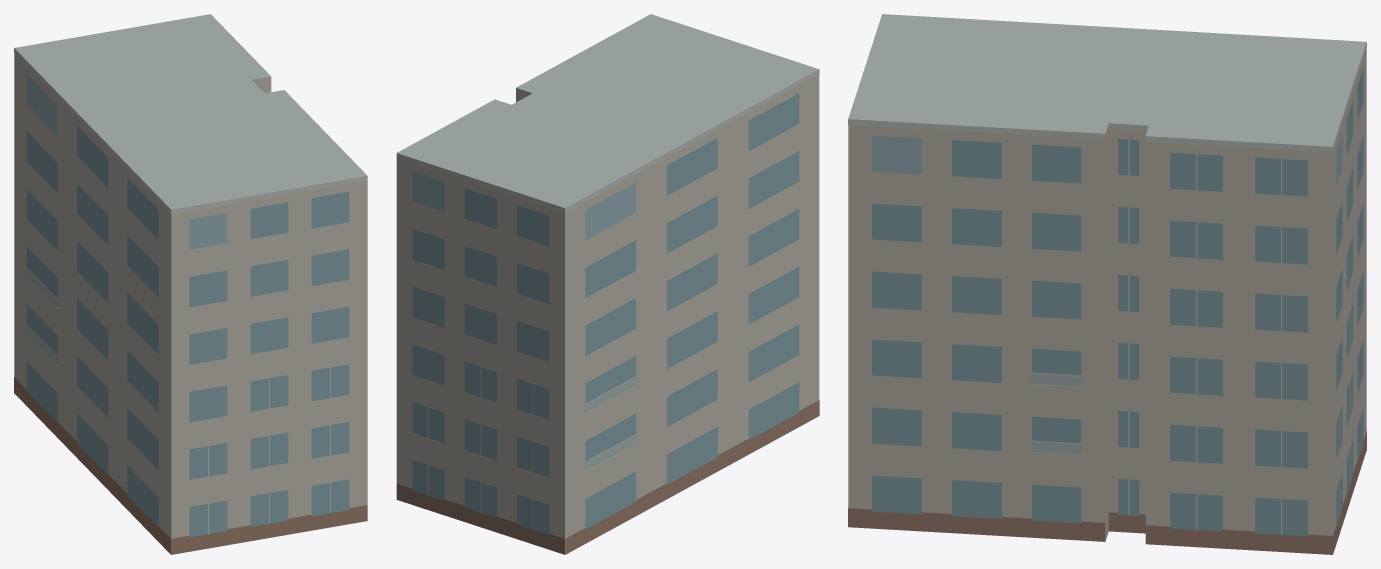
File: survey-upis-32634377.glb
3 renders of one model, left to right at view 1: azimuth 30°, elevation 25°; view 2: azimuth 150°, elevation 25°; view 3: azimuth 270°, elevation 25°, orthographic. The views are drawn at different scales.
Parts seen in each view (by area): view 1: survey-upis-32634377.tmp; view 2: survey-upis-32634377.tmp; view 3: survey-upis-32634377.tmp.
Part boxes in pixels (x1=…): survey-upis-32634377.tmp: x1=14, y1=14, x2=367, y2=554; survey-upis-32634377.tmp: x1=396, y1=14, x2=819, y2=554; survey-upis-32634377.tmp: x1=848, y1=14, x2=1366, y2=554.
Size of the model in its own units: 12.51 by 17.9 by 20.63.
